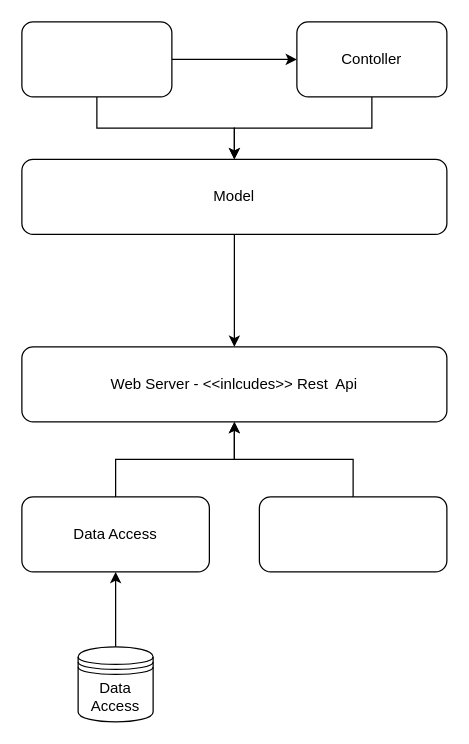
Some shapes in this 469 by 744 pixel diagram are drawn without their labels. The shapes that lost their labels are listed below. From the top down, each one's centre as x and y in pixels, then its label:
(96,59): View
(352,534): Templates
